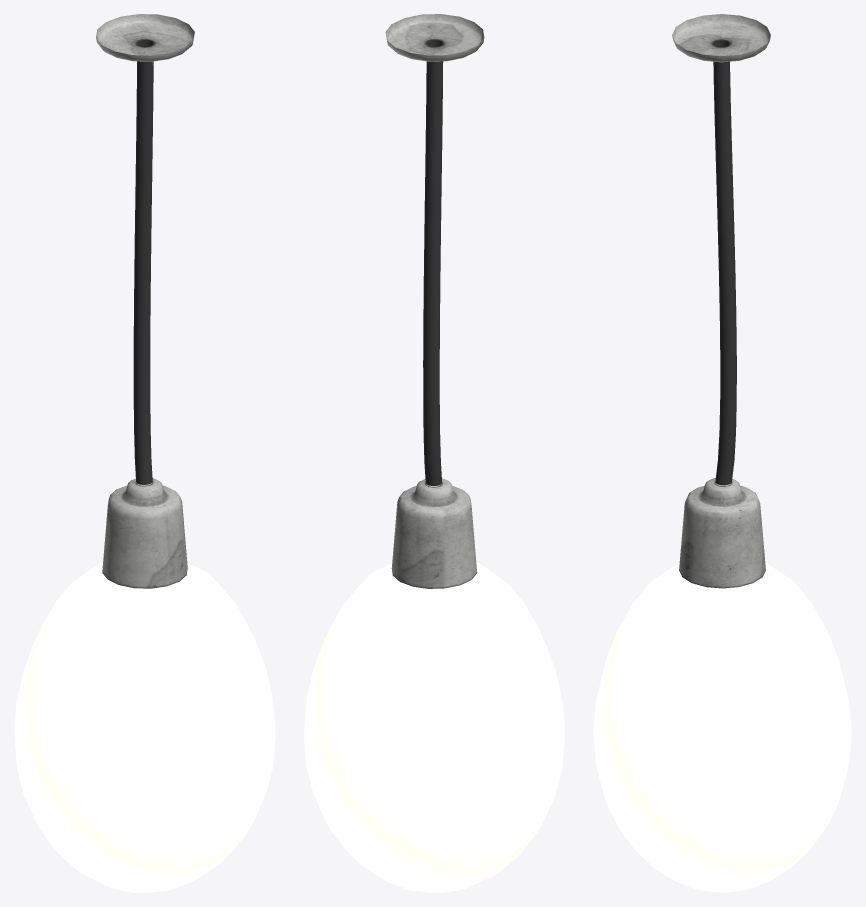
Rendered from light.glb.
3 renders of one model, left to right at view 1: azimuth 30°, elevation 25°; view 2: azimuth 150°, elevation 25°; view 3: azimuth 270°, elevation 25°, orthographic.
Visible parts, largest first — view 1: SM_bulb.003, SM_bulb.004; view 2: SM_bulb.003, SM_bulb.004; view 3: SM_bulb.003, SM_bulb.004.
Boxes of the visible parts, <box> form: SM_bulb.003: <box>14,478,275,892</box>; SM_bulb.004: <box>96,14,194,484</box>; SM_bulb.003: <box>304,478,564,892</box>; SM_bulb.004: <box>385,14,484,485</box>; SM_bulb.003: <box>593,478,851,892</box>; SM_bulb.004: <box>672,14,770,485</box>.
Bounding box in the file's own units: 0.1276 × 0.4548 × 0.1256.
1 material, 1 textured.
